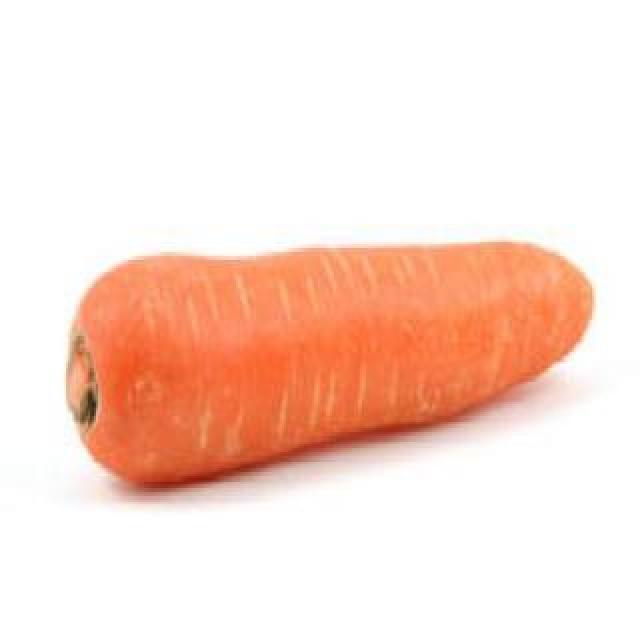Wet: (62, 236, 594, 496)
